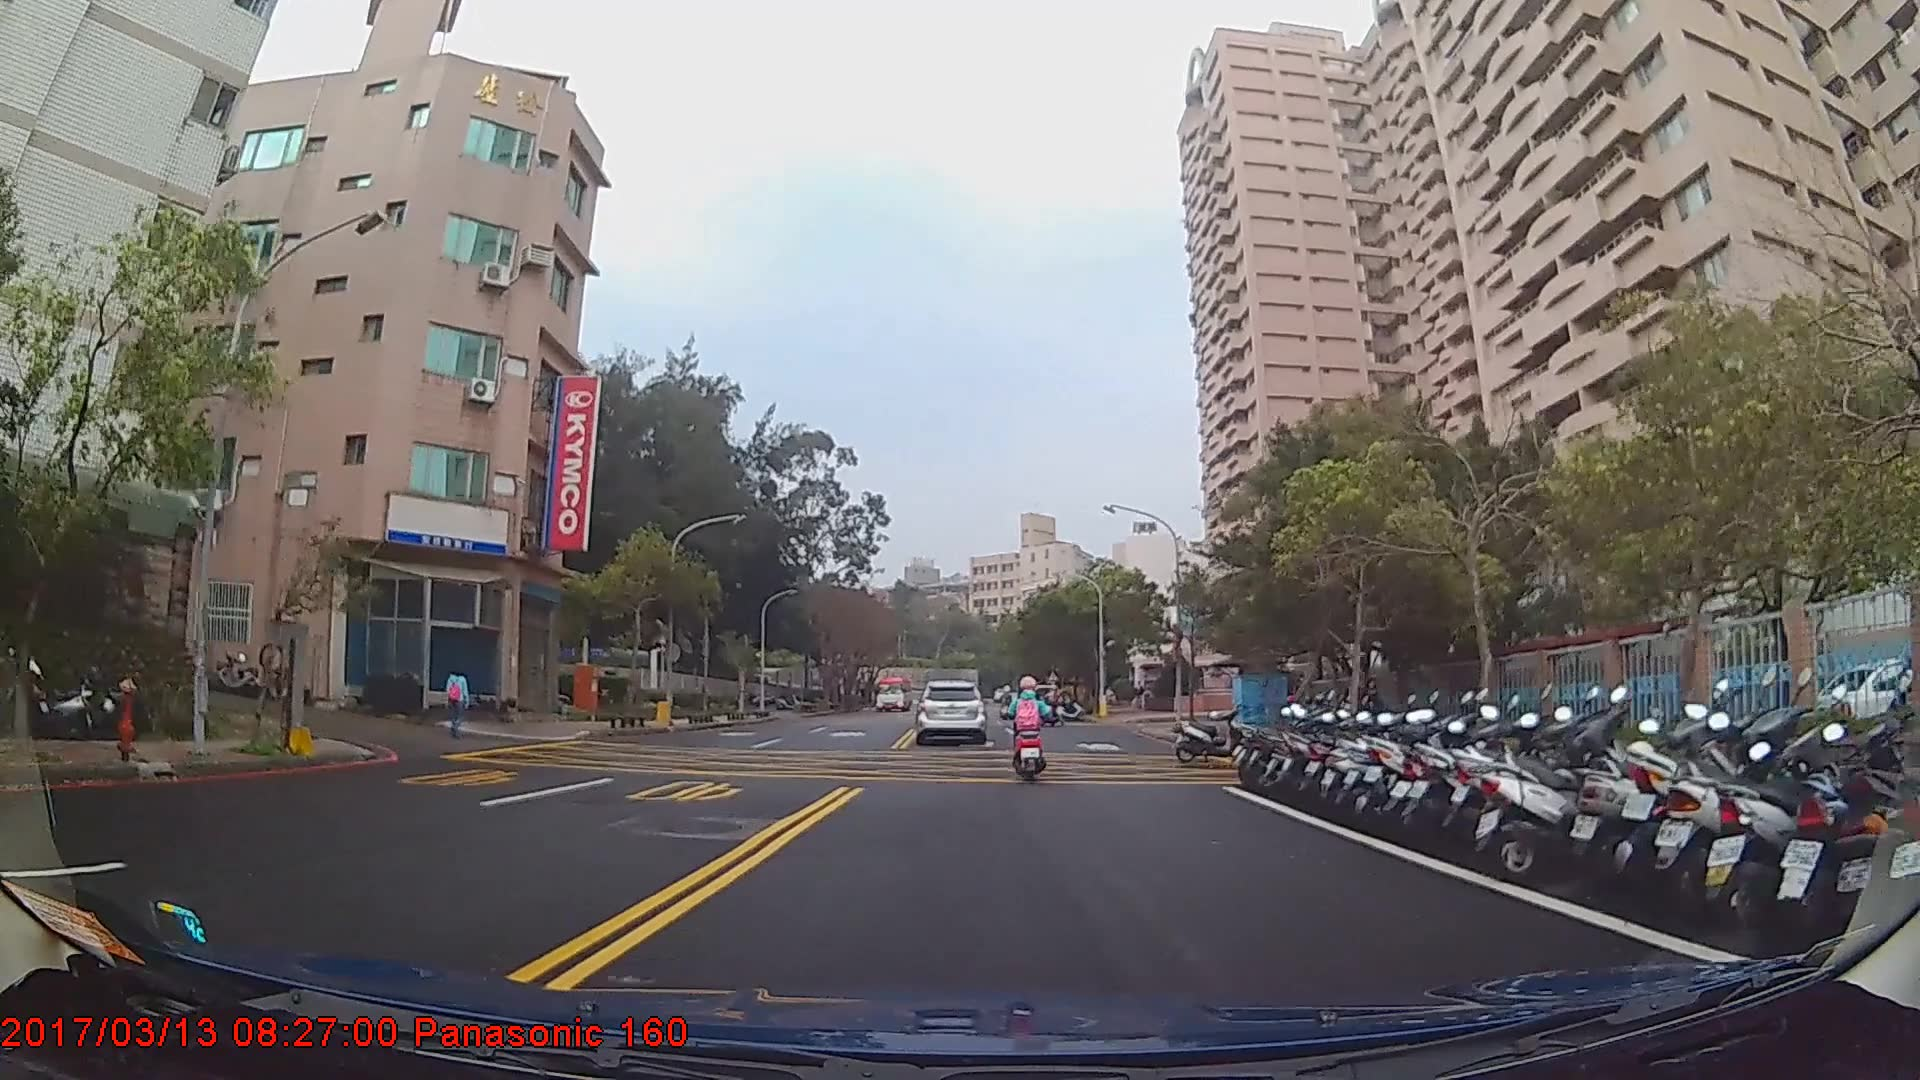pedestrian: (445, 661, 471, 741)
rider: (1004, 668, 1055, 781)
vehicle: (915, 677, 985, 743), (871, 672, 913, 712)
